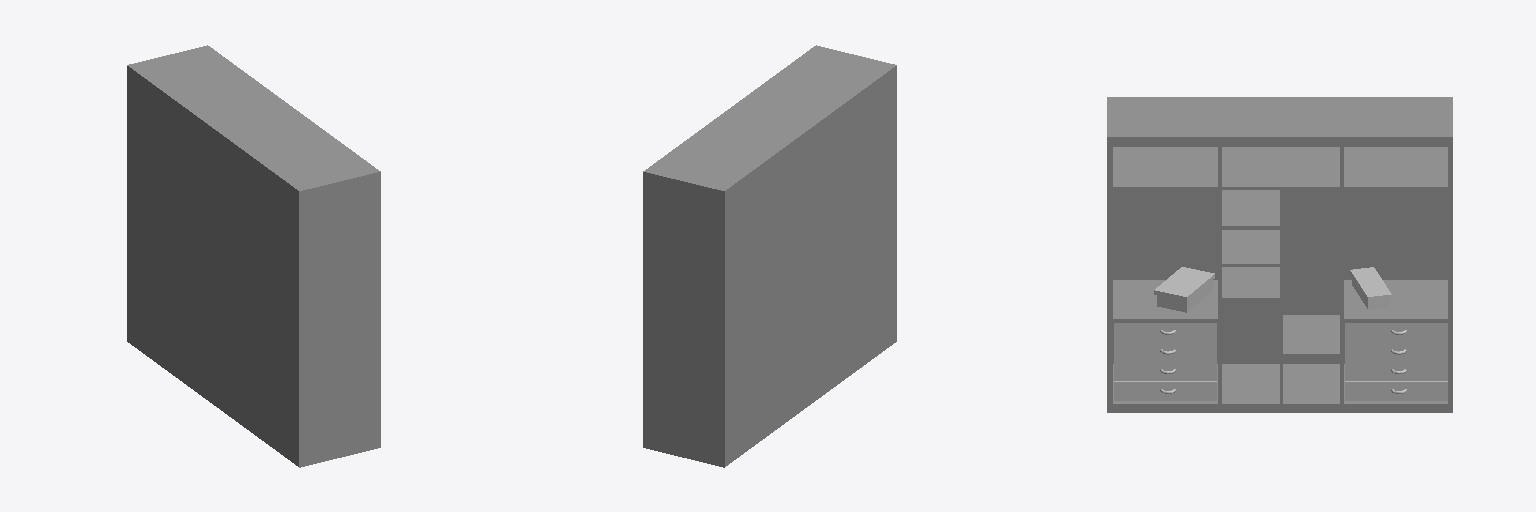
Rendered from wardrobe.obj.
The picture shows the model from 3 angles: view 1: azimuth 30°, elevation 25°; view 2: azimuth 150°, elevation 25°; view 3: azimuth 270°, elevation 25°; orthographic projection.
Parts seen in each view (by area): view 1: wardrobe_Cube; view 2: wardrobe_Cube; view 3: wardrobe_Cube, drawer.007_Cube.009, drawer.003_Cube.005, drawer.001_Cube.003, drawer.005_Cube.007, drawer_Cube.002, drawer.004_Cube.006, drawer.006_Cube.008, drawer.002_Cube.004, box.001_Cube.001, box_Cube.010.
Boxes of the visible parts, <box> form: wardrobe_Cube: <box>127,45,380,467</box>; wardrobe_Cube: <box>643,45,896,467</box>; wardrobe_Cube: <box>1107,97,1452,412</box>; drawer.007_Cube.009: <box>1345,381,1447,400</box>; drawer.003_Cube.005: <box>1114,381,1216,400</box>; drawer.001_Cube.003: <box>1114,342,1216,361</box>; drawer.005_Cube.007: <box>1345,342,1447,361</box>; drawer_Cube.002: <box>1114,323,1216,341</box>; drawer.004_Cube.006: <box>1345,323,1447,341</box>; drawer.006_Cube.008: <box>1345,362,1447,380</box>; drawer.002_Cube.004: <box>1114,362,1216,380</box>; box.001_Cube.001: <box>1154,267,1214,312</box>; box_Cube.010: <box>1350,267,1391,309</box>.
Bounding box in the file's own units: 2.86 × 8.81 × 9.98.